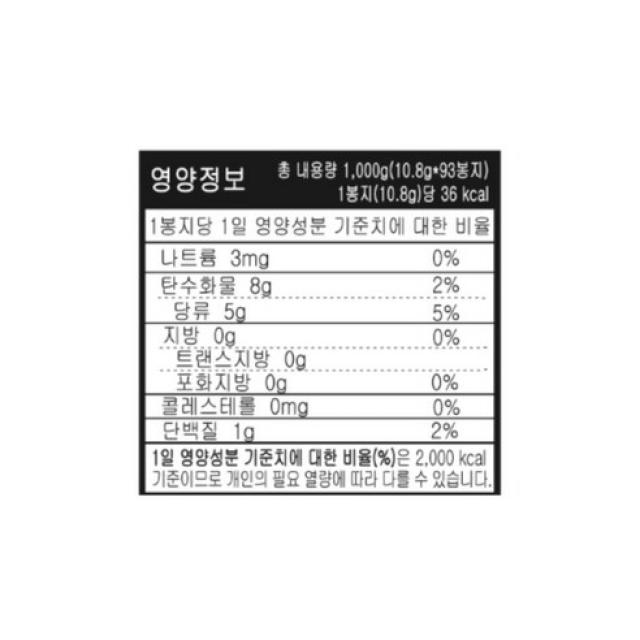Nutrition Label: (111, 104, 532, 532)
